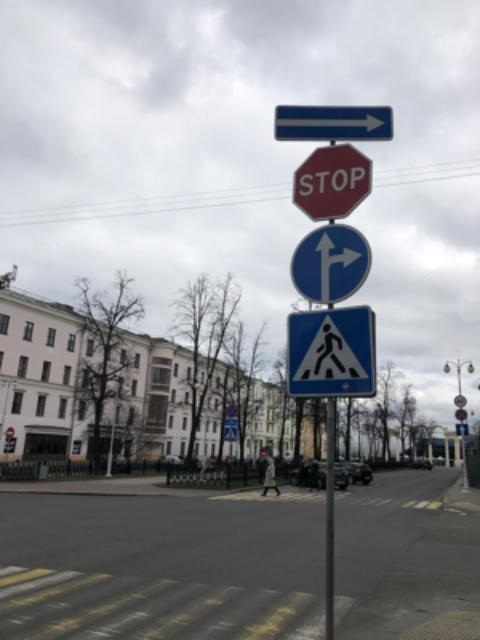crosswalk-sign: (286, 305, 377, 397)
